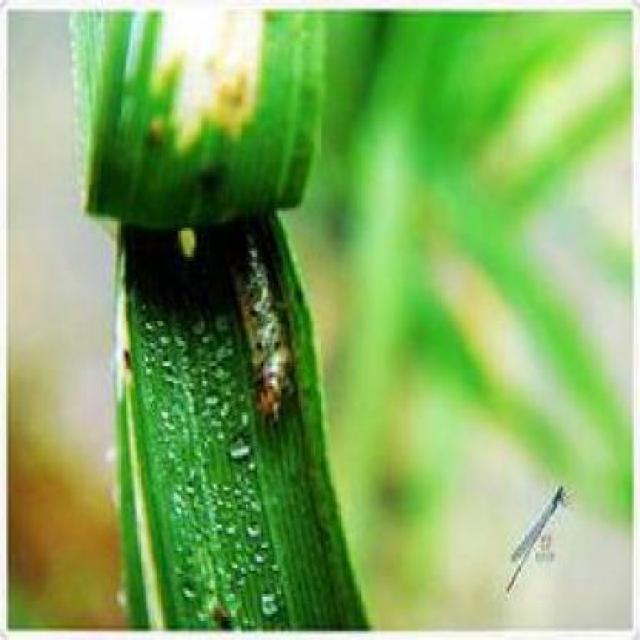leaf-folder: (200, 204, 325, 424)
